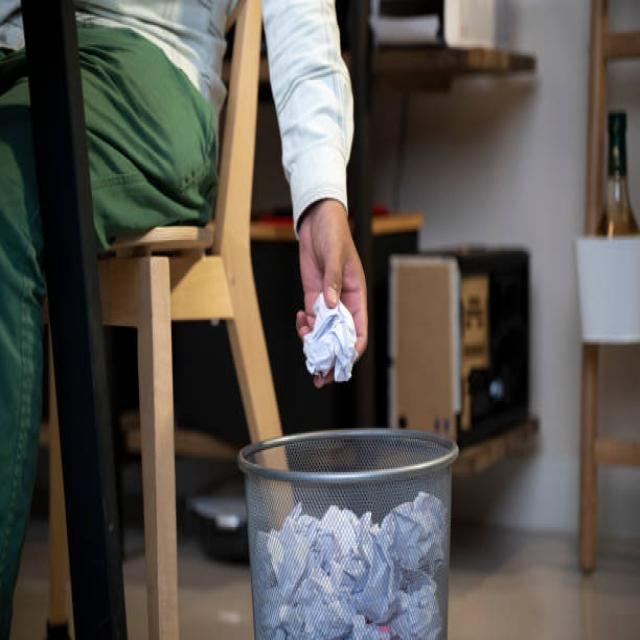paper: (228, 295, 464, 610)
